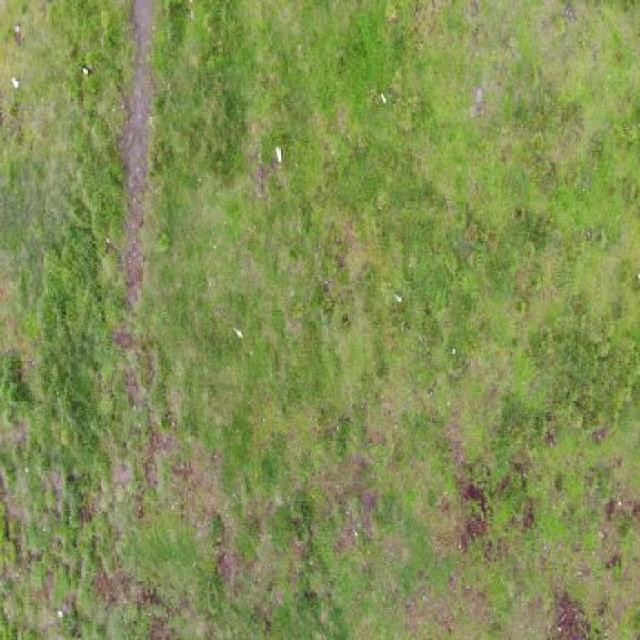Garbage: (232, 327, 246, 341), (392, 291, 404, 305), (79, 66, 92, 78), (275, 145, 282, 161), (12, 78, 20, 91), (380, 93, 387, 106), (14, 24, 18, 33)
